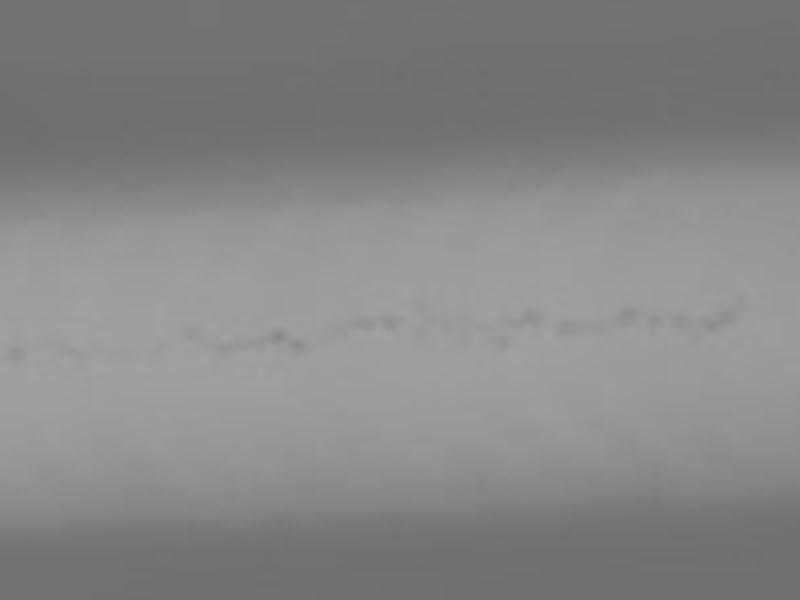defect: (495, 301, 549, 333), (432, 310, 471, 351), (698, 304, 746, 333), (211, 333, 269, 355), (611, 298, 643, 329), (4, 340, 30, 373), (554, 314, 587, 338), (377, 311, 407, 337), (343, 311, 375, 334), (175, 324, 205, 348), (479, 334, 510, 352), (264, 323, 288, 343), (649, 308, 665, 330), (286, 342, 306, 356), (673, 311, 691, 324)
